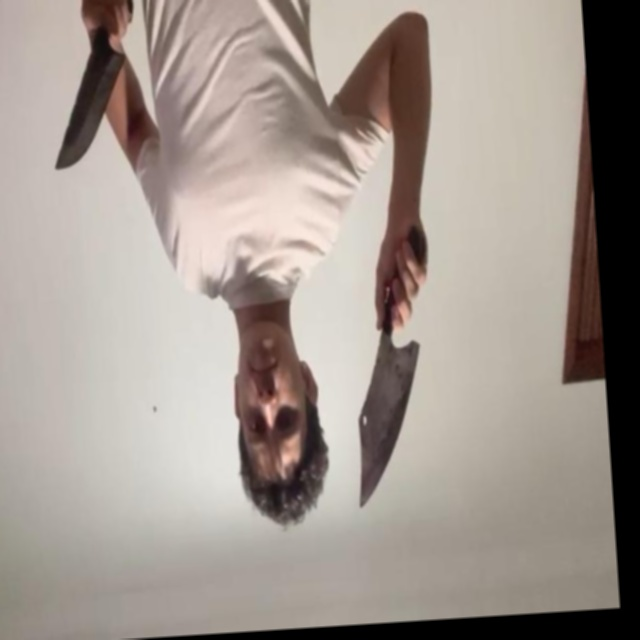Sharp-Object: (348, 336, 430, 510), (48, 51, 135, 171)
